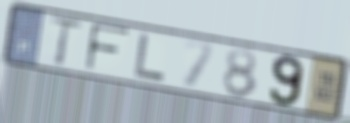7: (181, 39, 216, 90)
8: (220, 46, 263, 99)
9: (267, 54, 308, 108)
F: (82, 21, 133, 74)
L: (132, 32, 168, 85)
T: (47, 15, 85, 68)
